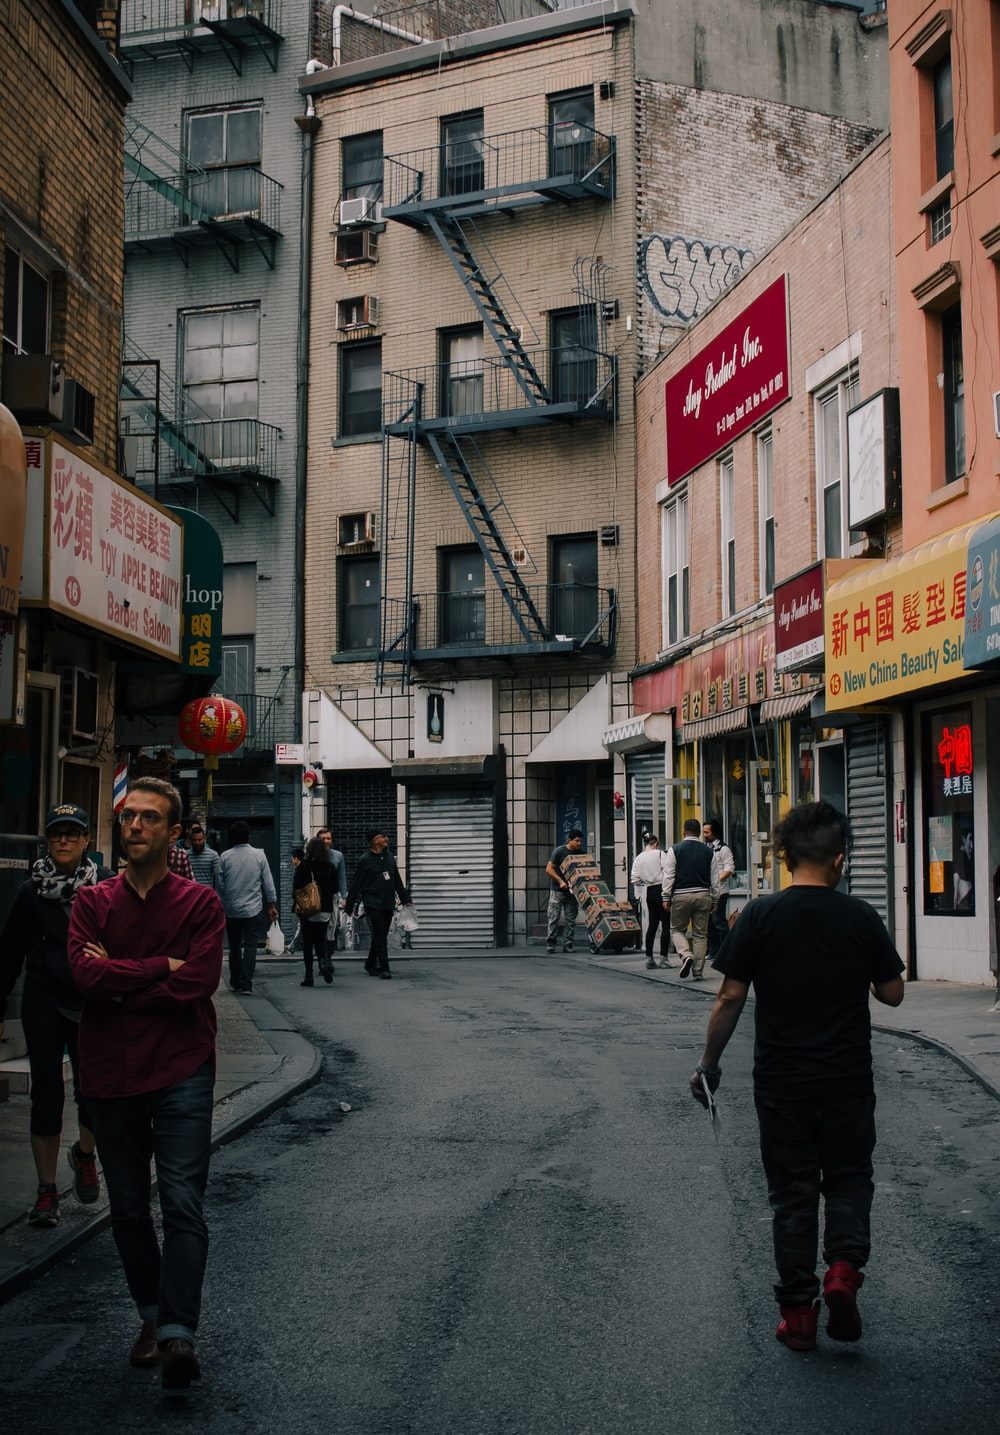person: (683, 793, 923, 1359), (53, 770, 263, 1395), (10, 784, 123, 1228), (201, 822, 292, 997), (341, 831, 437, 980), (290, 830, 368, 990), (539, 830, 633, 950), (661, 817, 724, 975)
